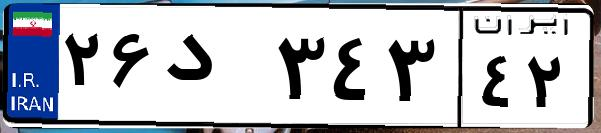2: (57, 26, 110, 100), (525, 38, 570, 115)
3: (270, 28, 330, 110), (385, 28, 445, 110)
4: (330, 28, 385, 110), (475, 38, 525, 113)
6: (110, 28, 158, 98)
د: (158, 20, 270, 120)
